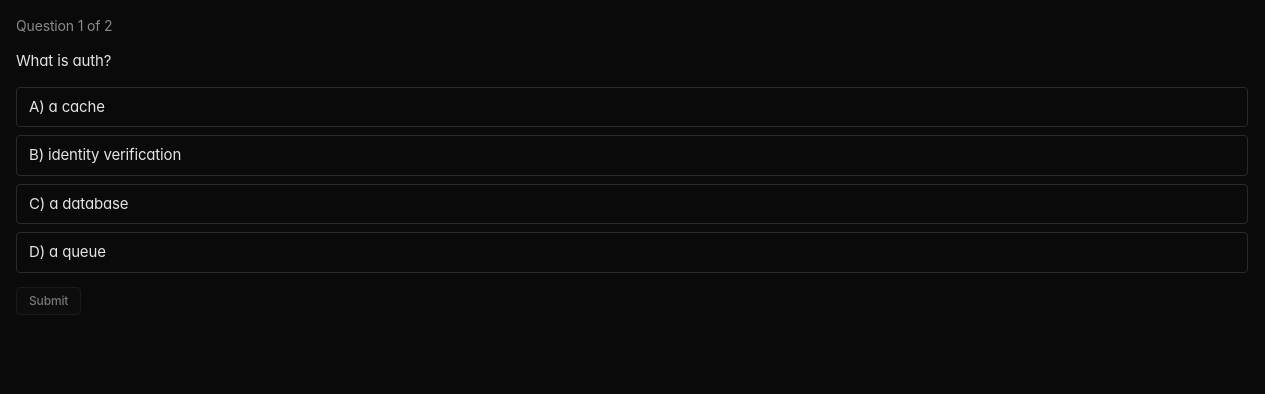
it: QuizAnswering › summary passes when score meets the threshold
This screenshot has width=1265, height=394.
# Q1 correct
Step 1. Click the button with test id "quiz-choice-B" → (115, 154), box [16, 135, 1248, 176]
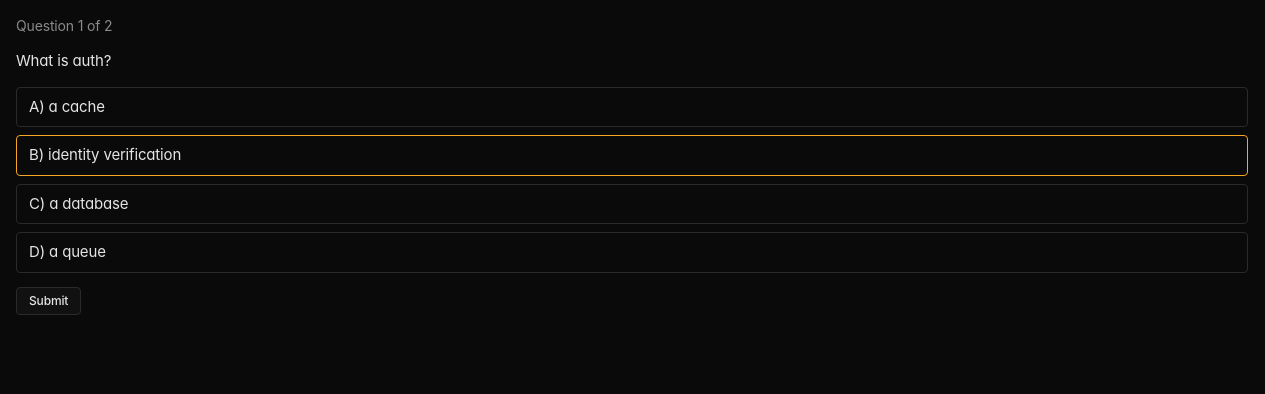
Step 2. Click the button with test id "quiz-submit" → (49, 300), box [16, 286, 81, 314]
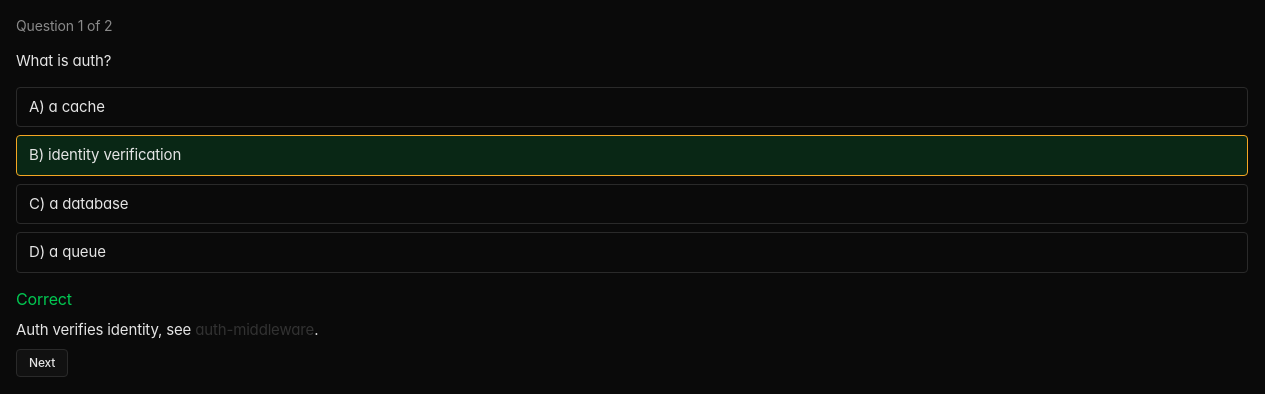
Step 3. Click the button with test id "quiz-next" → (42, 363), box [16, 349, 68, 377]
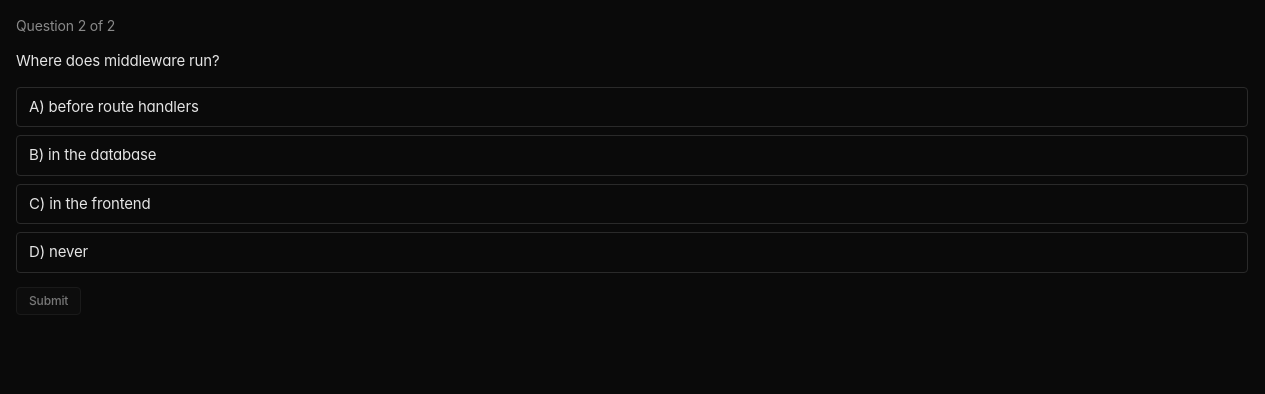
# Q2 correct
Step 4. Click the button with test id "quiz-choice-A" → (124, 106), box [16, 86, 1248, 127]
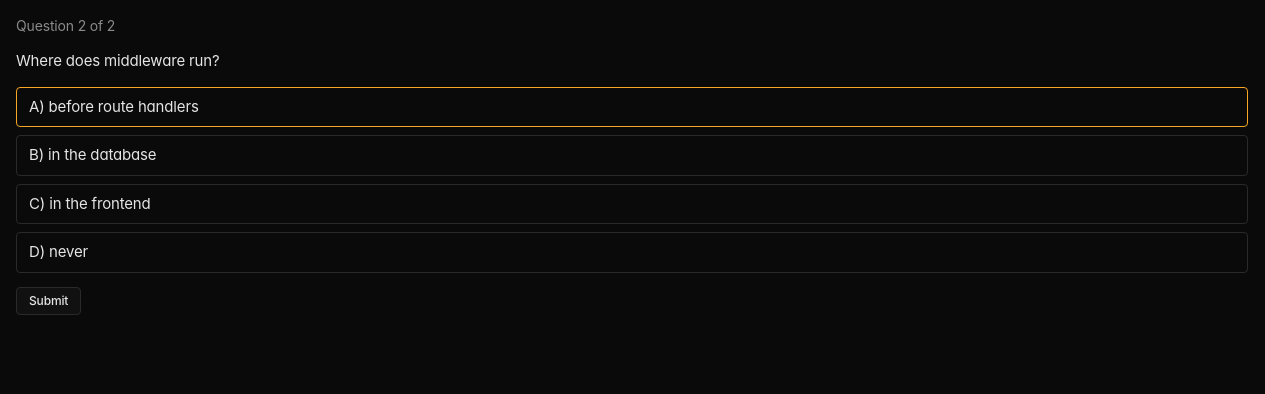
Step 5. Click the button with test id "quiz-submit" → (49, 300), box [16, 286, 81, 314]
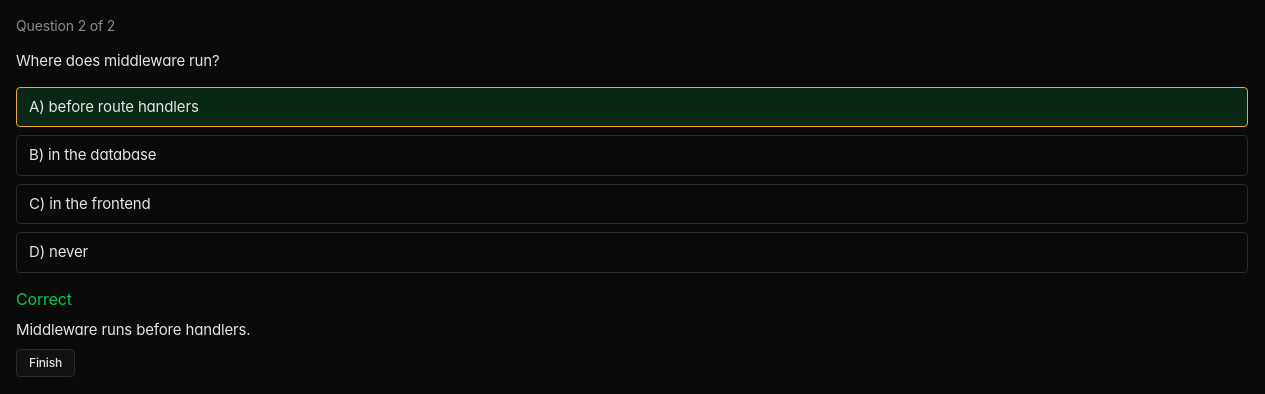
Step 6. Click the button with test id "quiz-next" → (46, 363), box [16, 349, 75, 377]
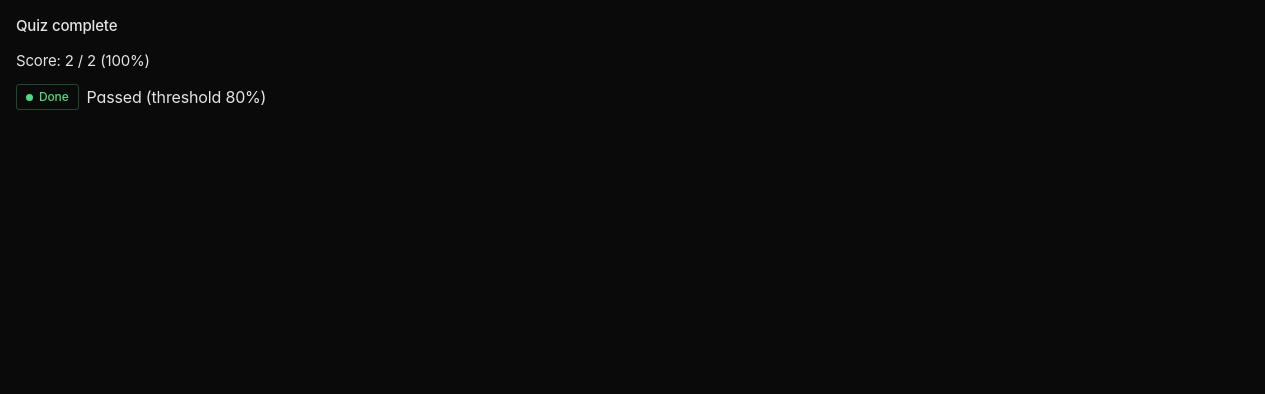
Expected: the element with test id "quiz-summary" is shown, [16, 16, 266, 110]
Expected: the text with test id "quiz-score" shows "2 / 2", [16, 50, 150, 70]
Expected: the element with test id "quiz-outcome" shows "Passed", [86, 87, 266, 107]
